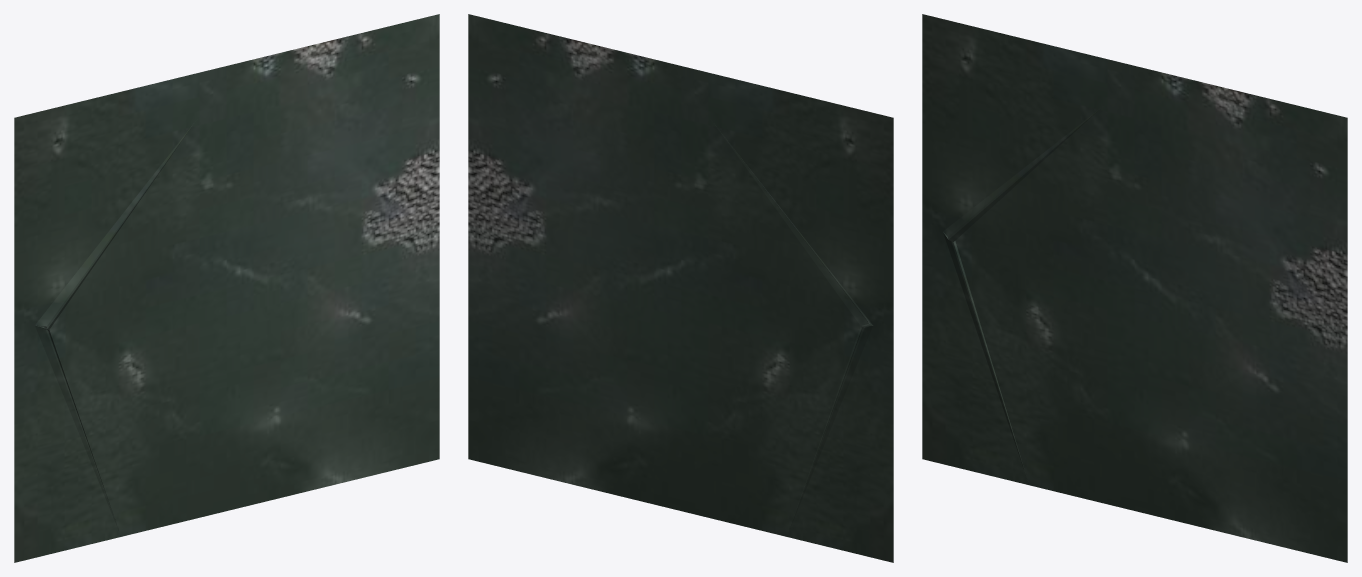
File: Tile_+038_+018_L17_0001.glb
The picture shows the model from 3 angles, left to right: view 1: azimuth 30°, elevation 25°; view 2: azimuth 150°, elevation 25°; view 3: azimuth 330°, elevation 25°; orthographic projection.
Bounding box in the file's own units: 126 × 126 × 1.79.
1 material, 1 textured.
